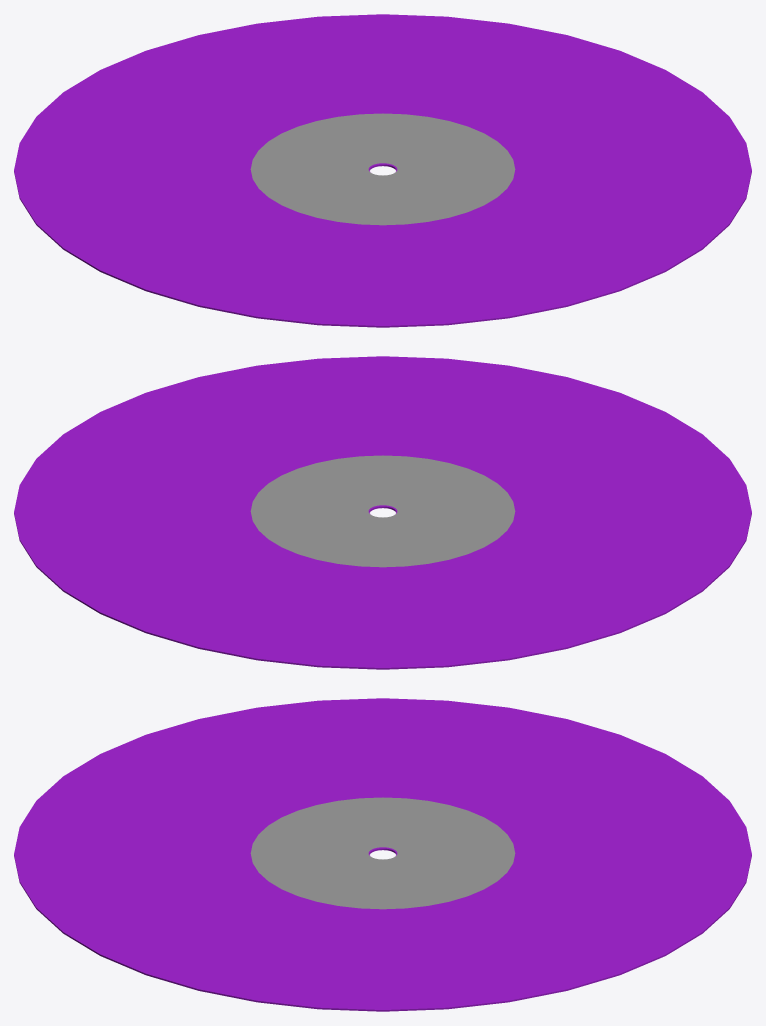
File: shop cont platter lod0.FBX
3 renders of one model, top to bottom at view 1: azimuth 30°, elevation 25°; view 2: azimuth 150°, elevation 25°; view 3: azimuth 270°, elevation 25°, orthographic.
Visible parts, largest first — view 1: platter; view 2: platter; view 3: platter.
Boxes of the visible parts, <box> form: platter: <box>14,14,751,327</box>; platter: <box>14,356,751,669</box>; platter: <box>14,698,751,1011</box>.
Bounding box in the file's own units: 0.5 × 0.00208 × 0.5.
